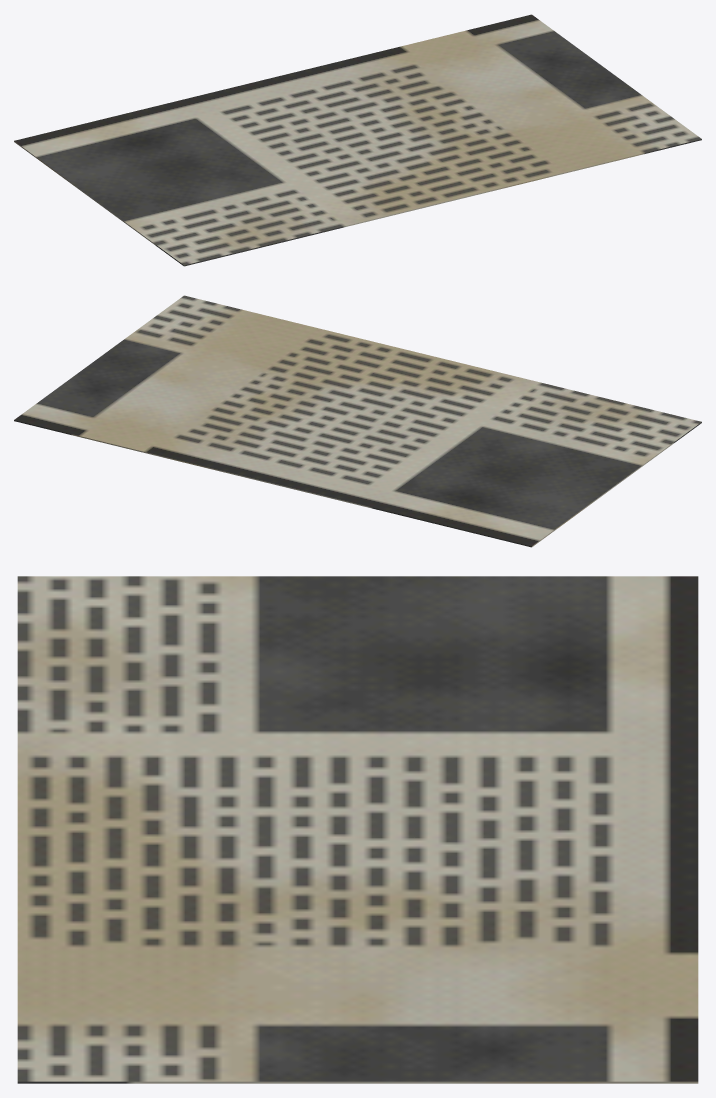
File: Newspaper.fbx
3 views of the same model, one above another, from view 1: azimuth 30°, elevation 25°; view 2: azimuth 150°, elevation 25°; view 3: azimuth 270°, elevation 25° (orthographic). The views are drawn at different scales.
Visible parts, largest first — view 1: Newspaper; view 2: Newspaper; view 3: Newspaper.
Boxes of the visible parts, x1,y1,x2,y2 form: Newspaper: [14, 14, 701, 266]; Newspaper: [14, 295, 701, 547]; Newspaper: [17, 576, 698, 1083].
Size of the model in its own units: 0.4909 by 0.001 by 0.2793.
Materials: 1 (1 with a texture image).
